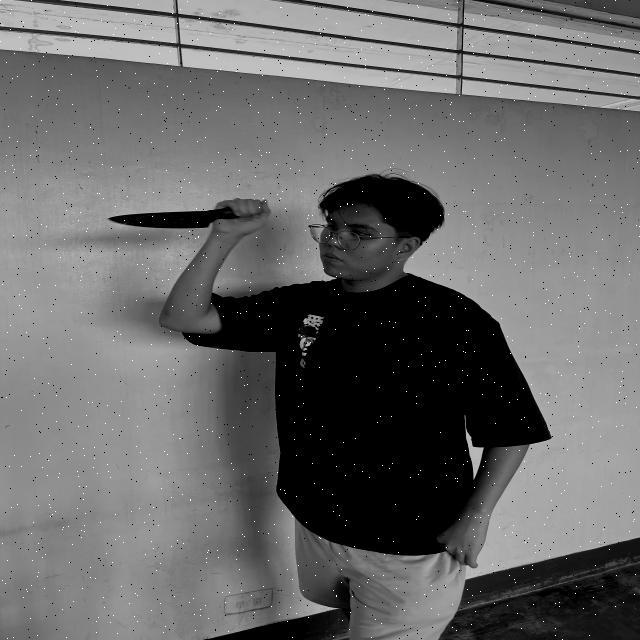knife: (110, 207, 235, 230)
non-violence: (109, 176, 550, 640)
